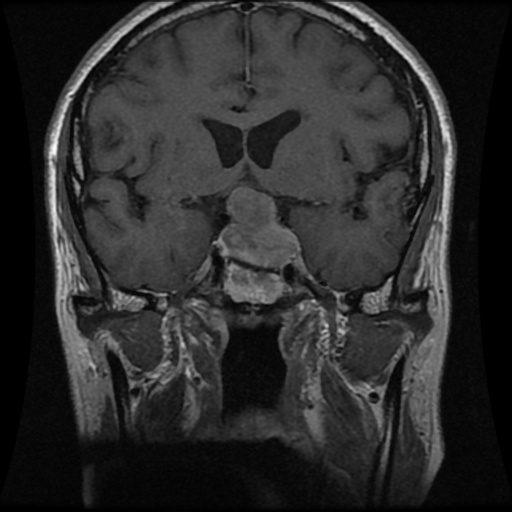pituitary: (222, 187, 300, 267)
